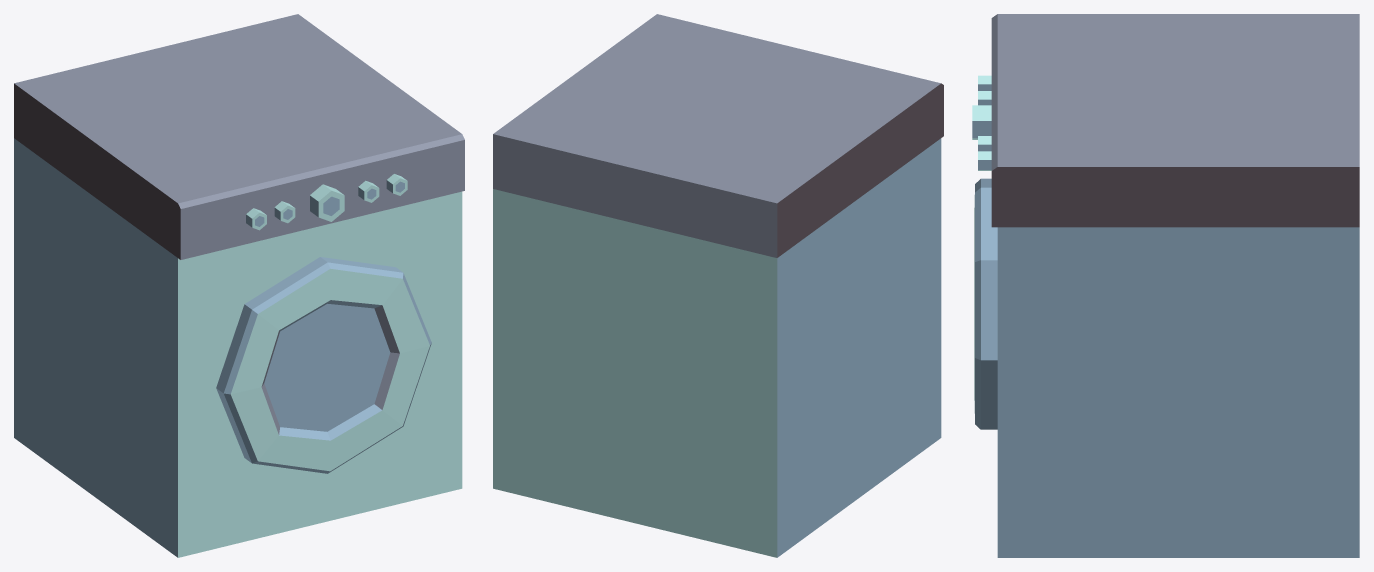
Rendered from Washer.fbx.
The picture shows the model from 3 angles, left to right: view 1: azimuth 30°, elevation 25°; view 2: azimuth 150°, elevation 25°; view 3: azimuth 270°, elevation 25°; orthographic projection. The views are drawn at different scales.
Visible parts, largest first — view 1: Washer; view 2: Washer; view 3: Washer.
Part boxes in pixels (box(x1,y1,x2,y2)): Washer: box(14, 14, 464, 557); Washer: box(493, 14, 943, 557); Washer: box(972, 14, 1359, 557).
Size of the model in its own units: 200 by 238 by 214.
